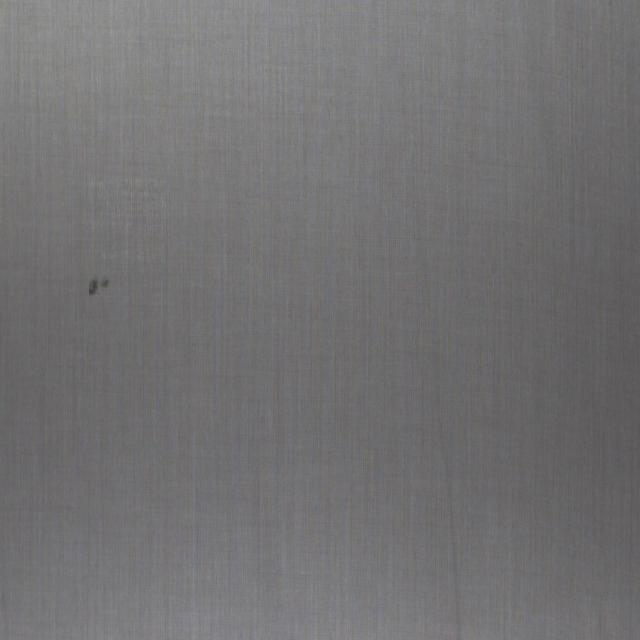dirty: (88, 280, 98, 296), (101, 278, 110, 290)
